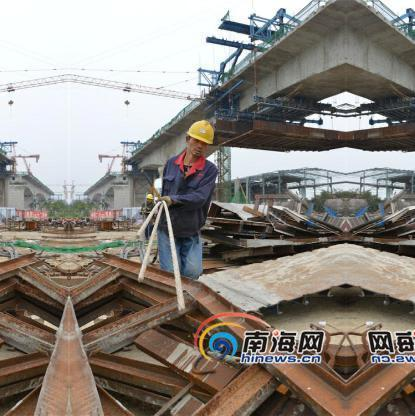helmet: (184, 117, 220, 145)
